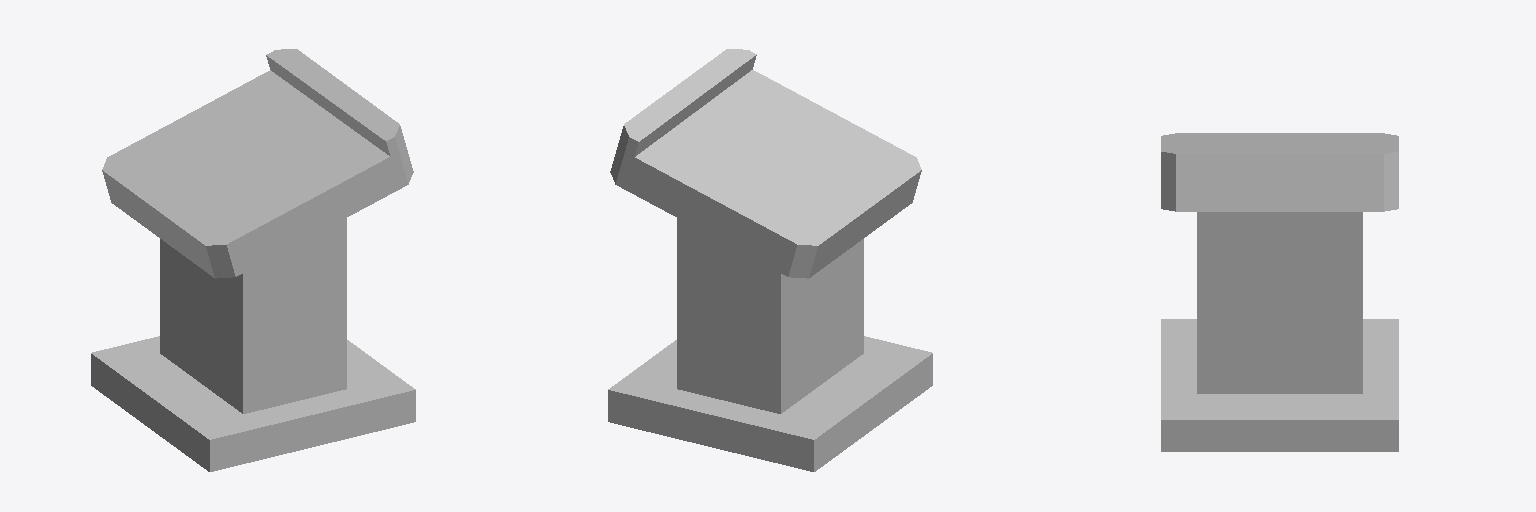
The model's file is Lectern3.obj.
The picture shows the model from 3 angles: view 1: azimuth 30°, elevation 25°; view 2: azimuth 150°, elevation 25°; view 3: azimuth 270°, elevation 25°; orthographic projection.
Visible parts, largest first — view 1: Untitled, Plane; view 2: Untitled, Plane; view 3: Untitled, Plane.
Part boxes in pixels (left/top/right/bottom): Untitled: left=91, top=218, right=415, bottom=471; Plane: left=102, top=49, right=413, bottom=278; Untitled: left=608, top=218, right=932, bottom=471; Plane: left=610, top=49, right=921, bottom=278; Untitled: left=1161, top=212, right=1398, bottom=451; Plane: left=1161, top=133, right=1398, bottom=211.
Bounding box in the file's own units: 2.05 × 2.72 × 2.